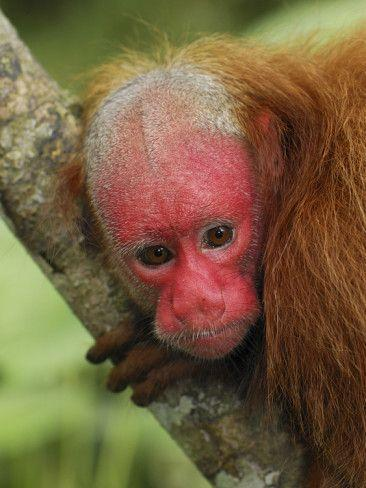monkey: (82, 66, 366, 488)
